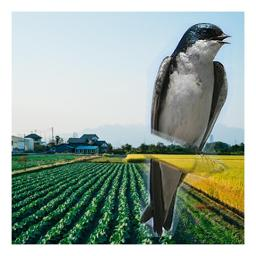Swallow: (140, 23, 233, 237)
